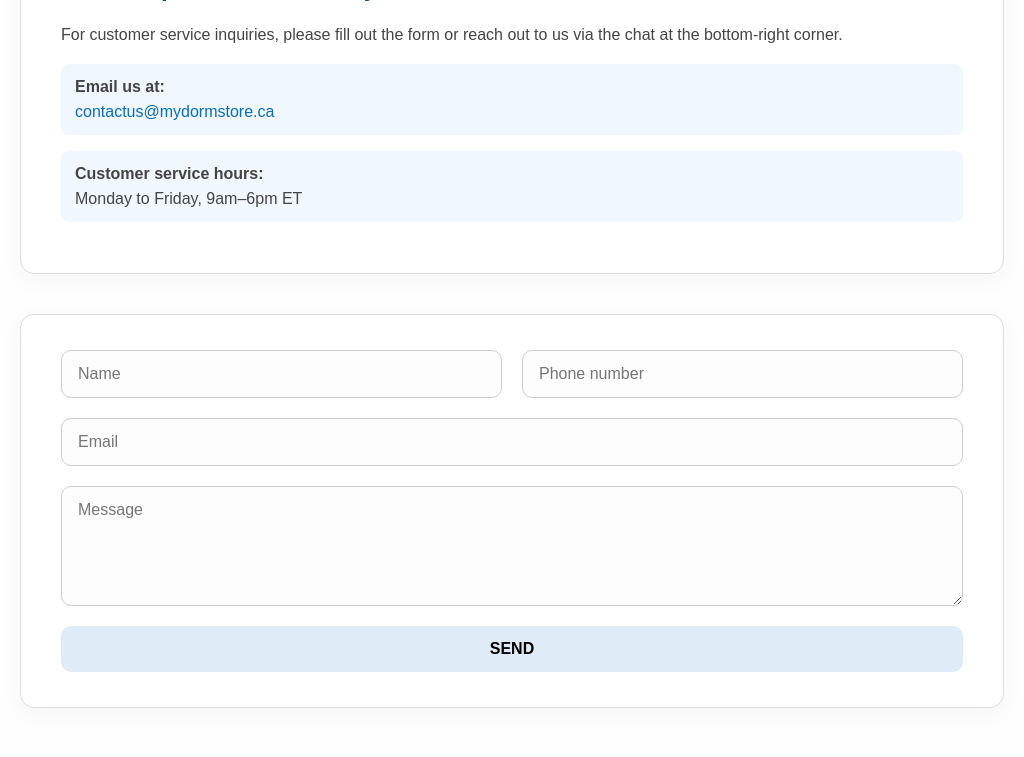
Test: ContactUs › displays network error message when fetch fails
(page scrolled)
Type "Judy" into the field with placeholder "Name". click: (282, 374)
box: 61,350 -> 502,398
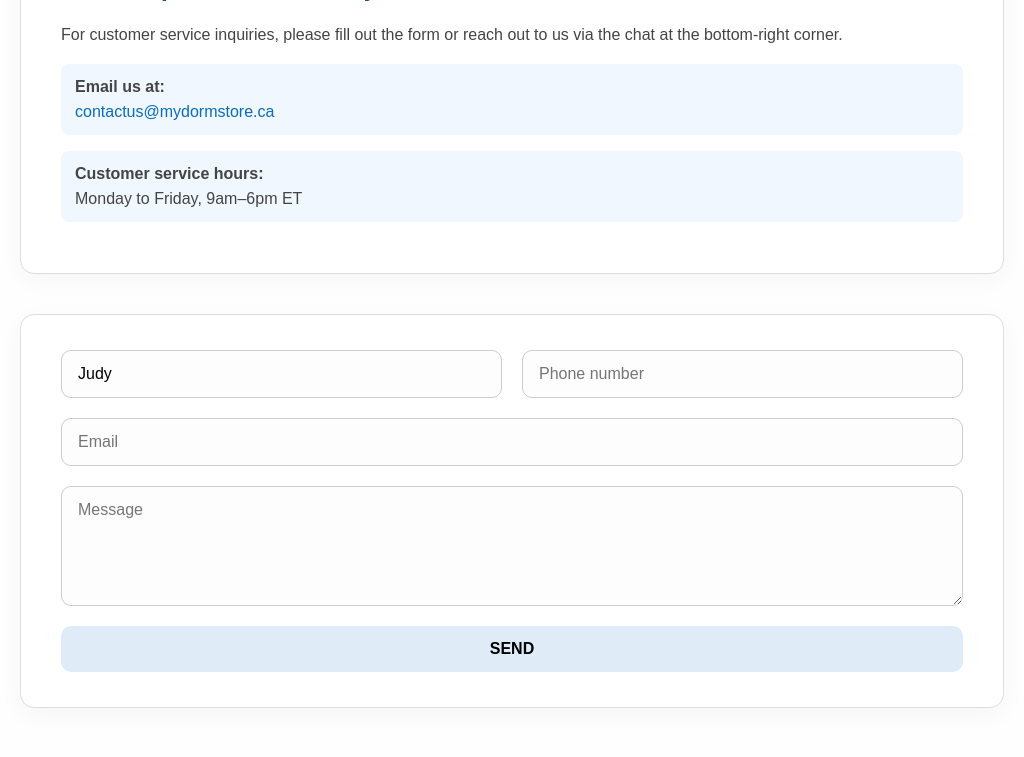
Type "judy@example.com" into the field with placeholder "Email". click: (512, 442)
box: 61,418 -> 963,466
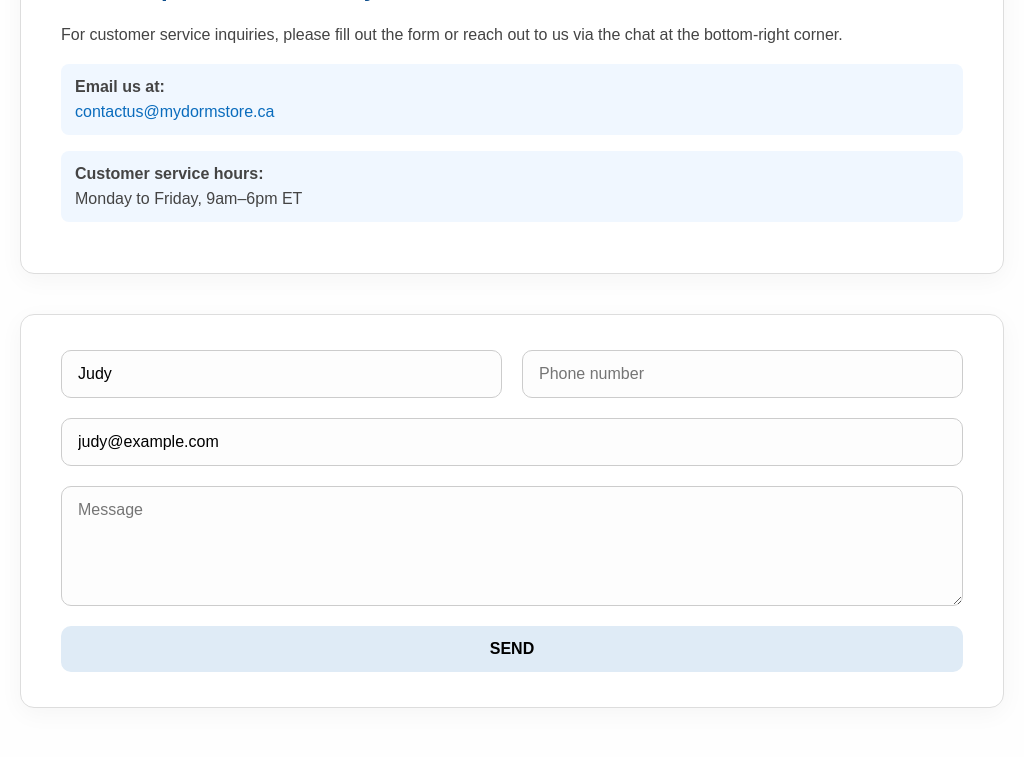
Type "Test message content." into the text box with placeholder "Message". click: (512, 546)
box: 61,486 -> 963,606
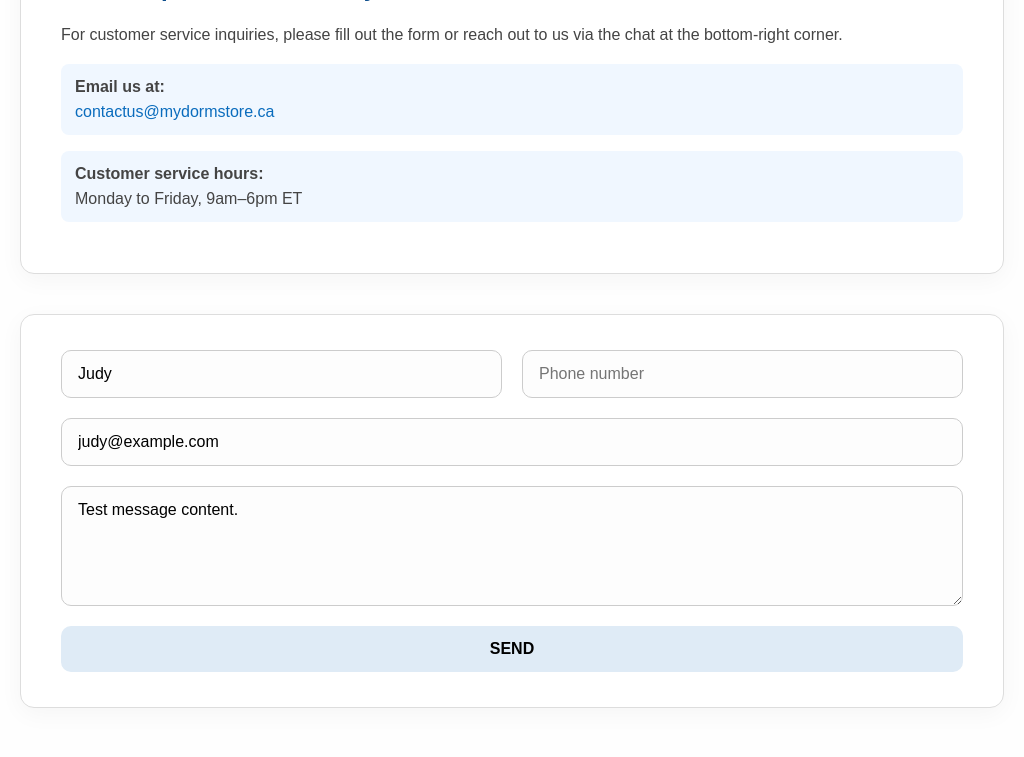
Click the button "SEND". click: (512, 649)
box: 61,626 -> 963,672
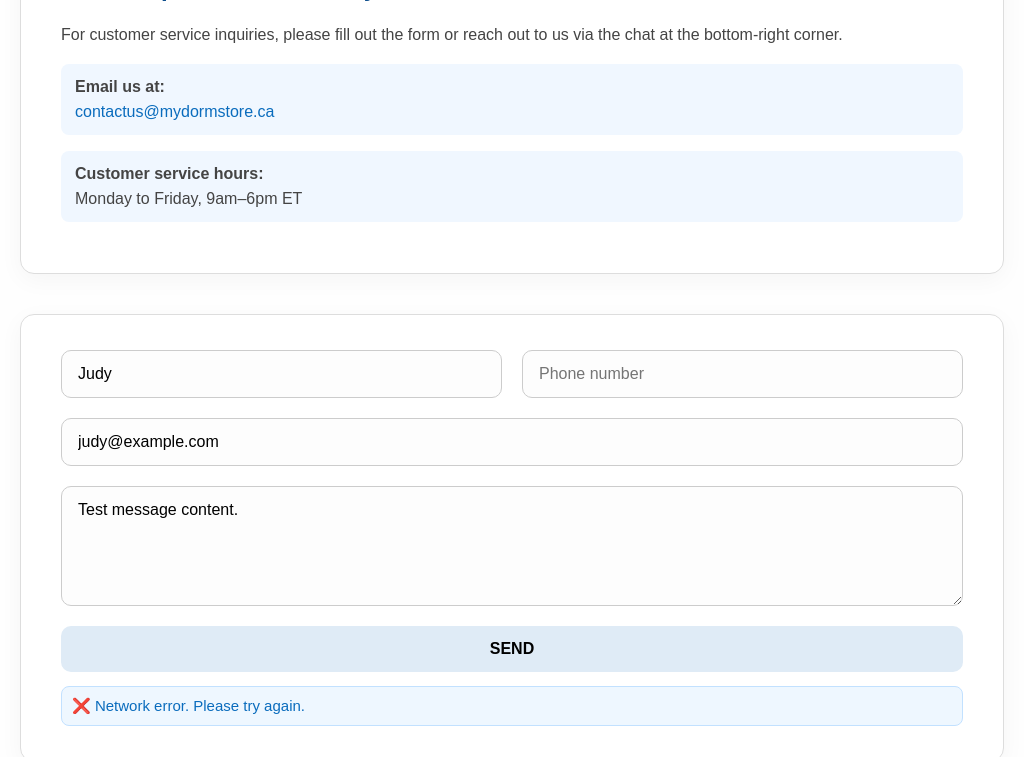
Result: the text "❌ Network error. Please try again." is shown at 61,686 -> 963,726
